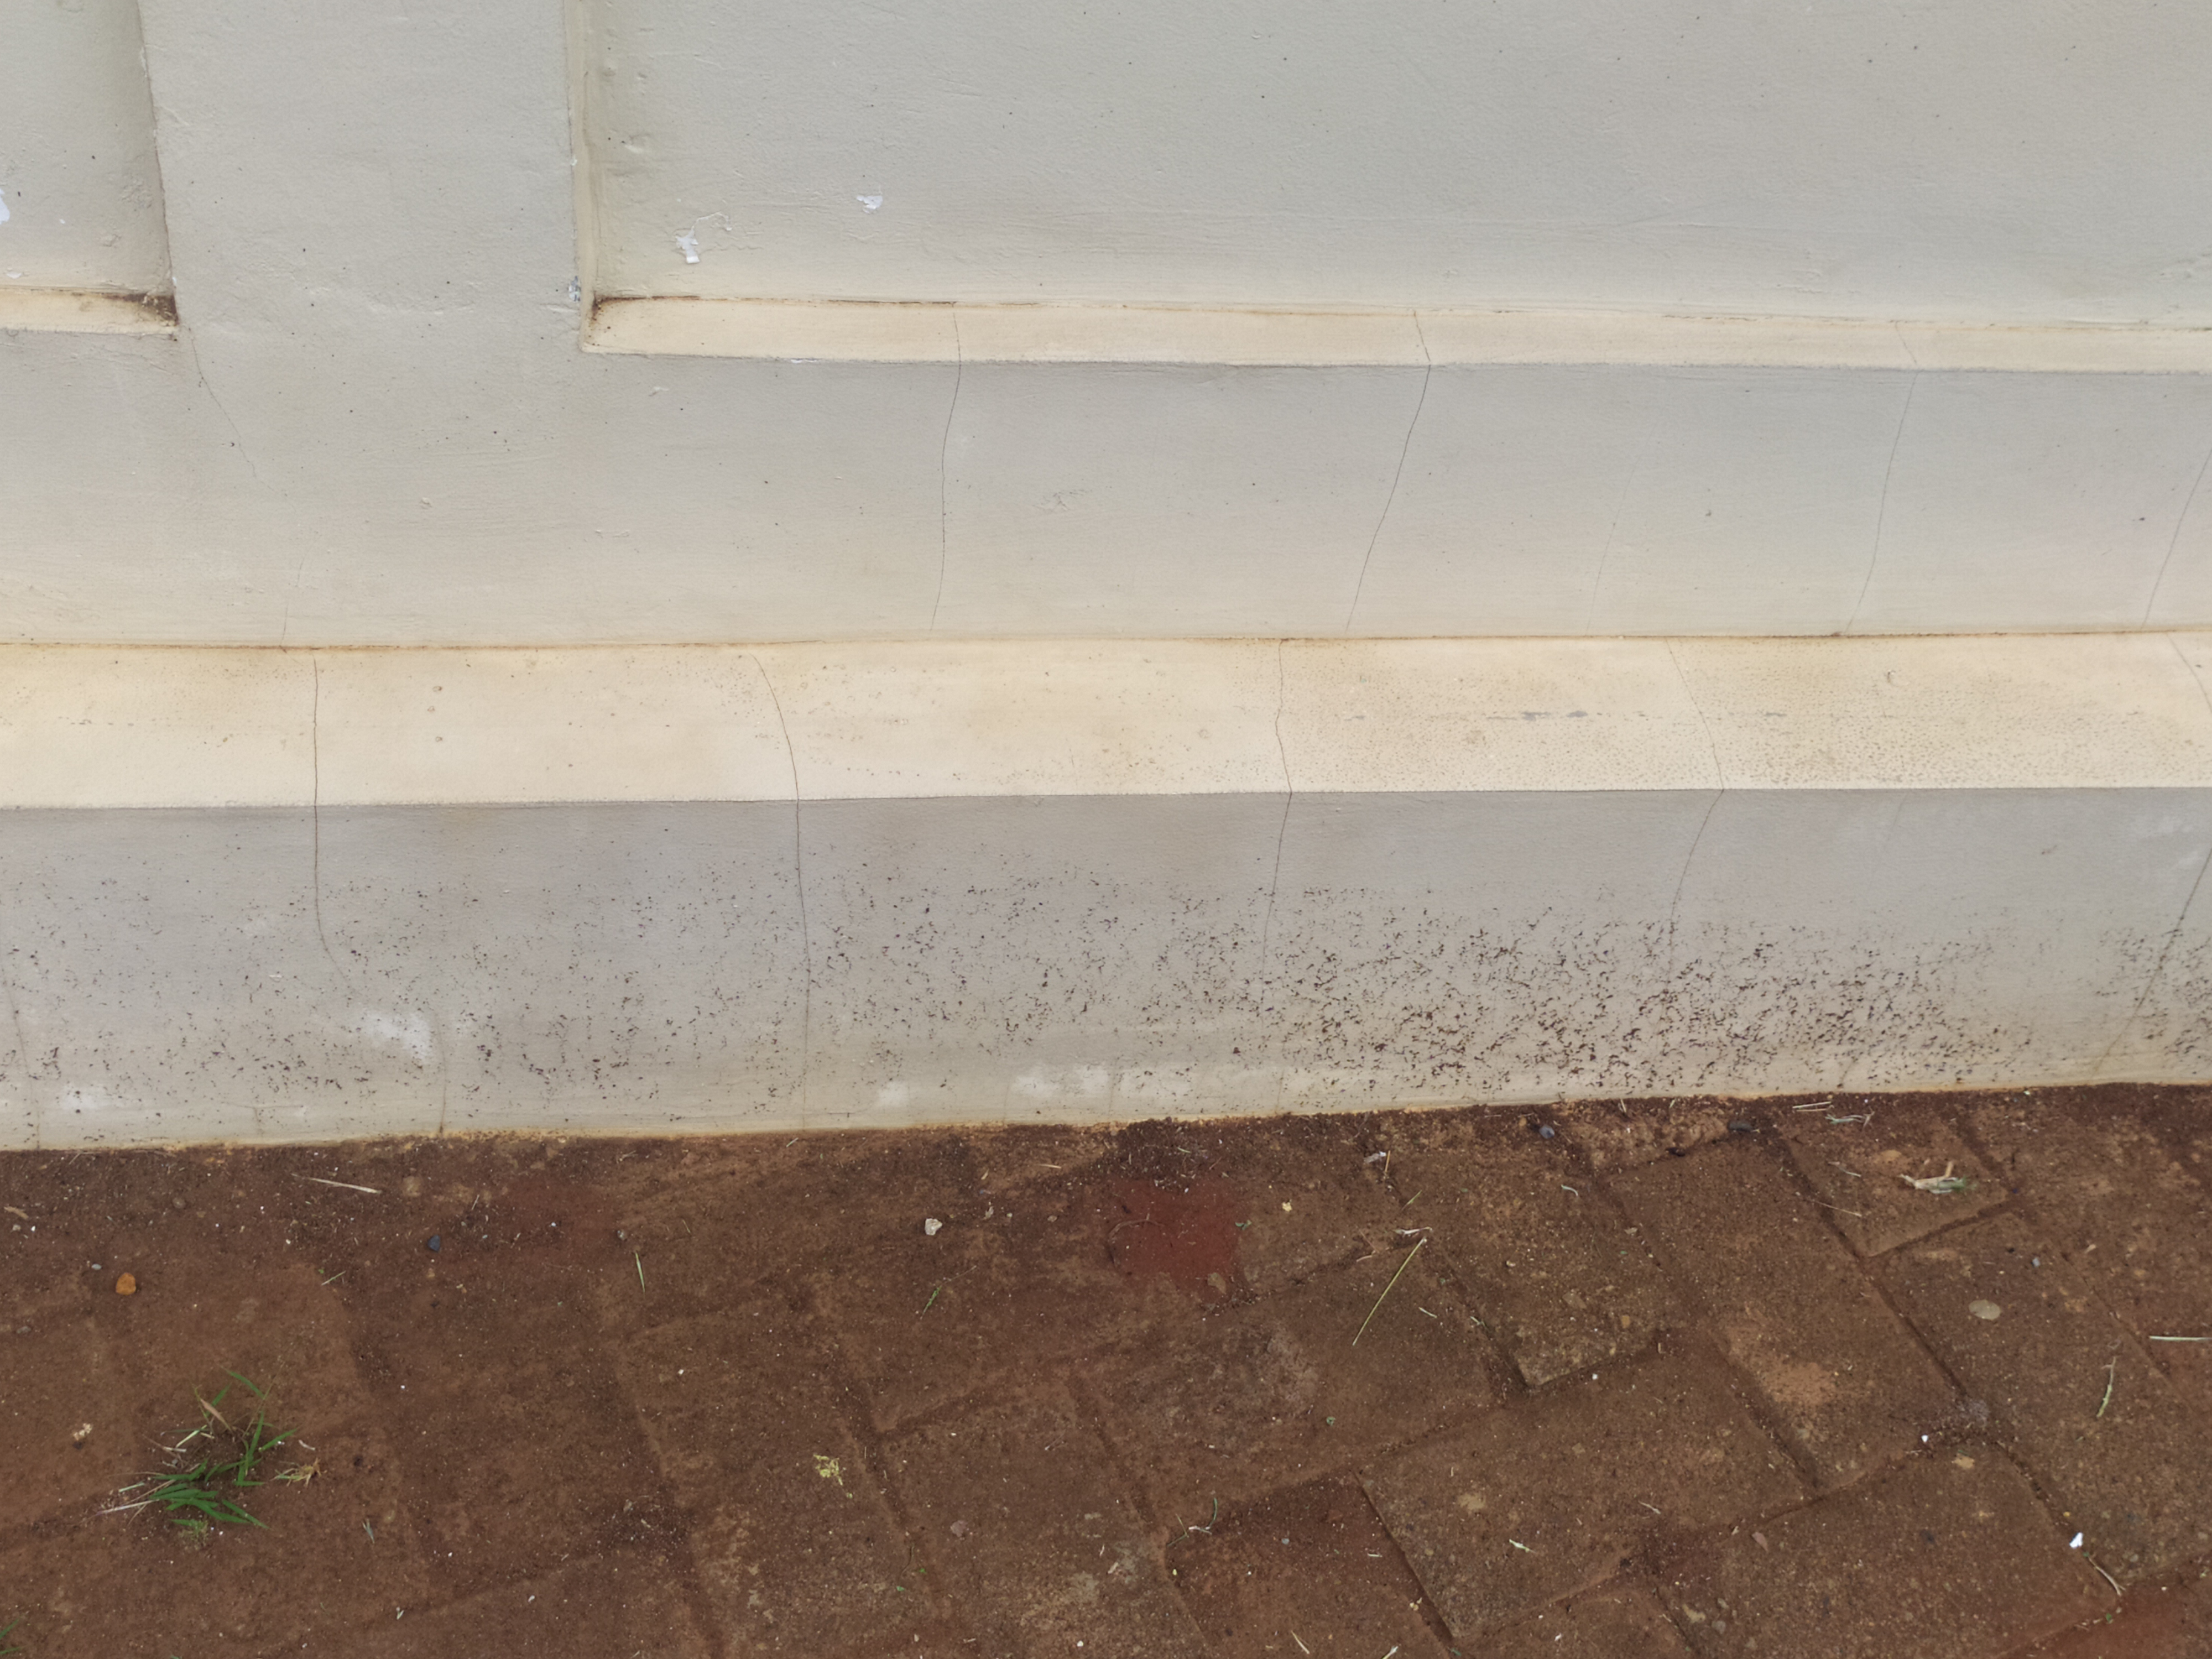crack: (1341, 308, 1437, 640), (751, 650, 819, 1103), (1846, 321, 1923, 640), (1658, 638, 1731, 960), (300, 657, 362, 988), (1252, 638, 1301, 999), (928, 308, 967, 633)
